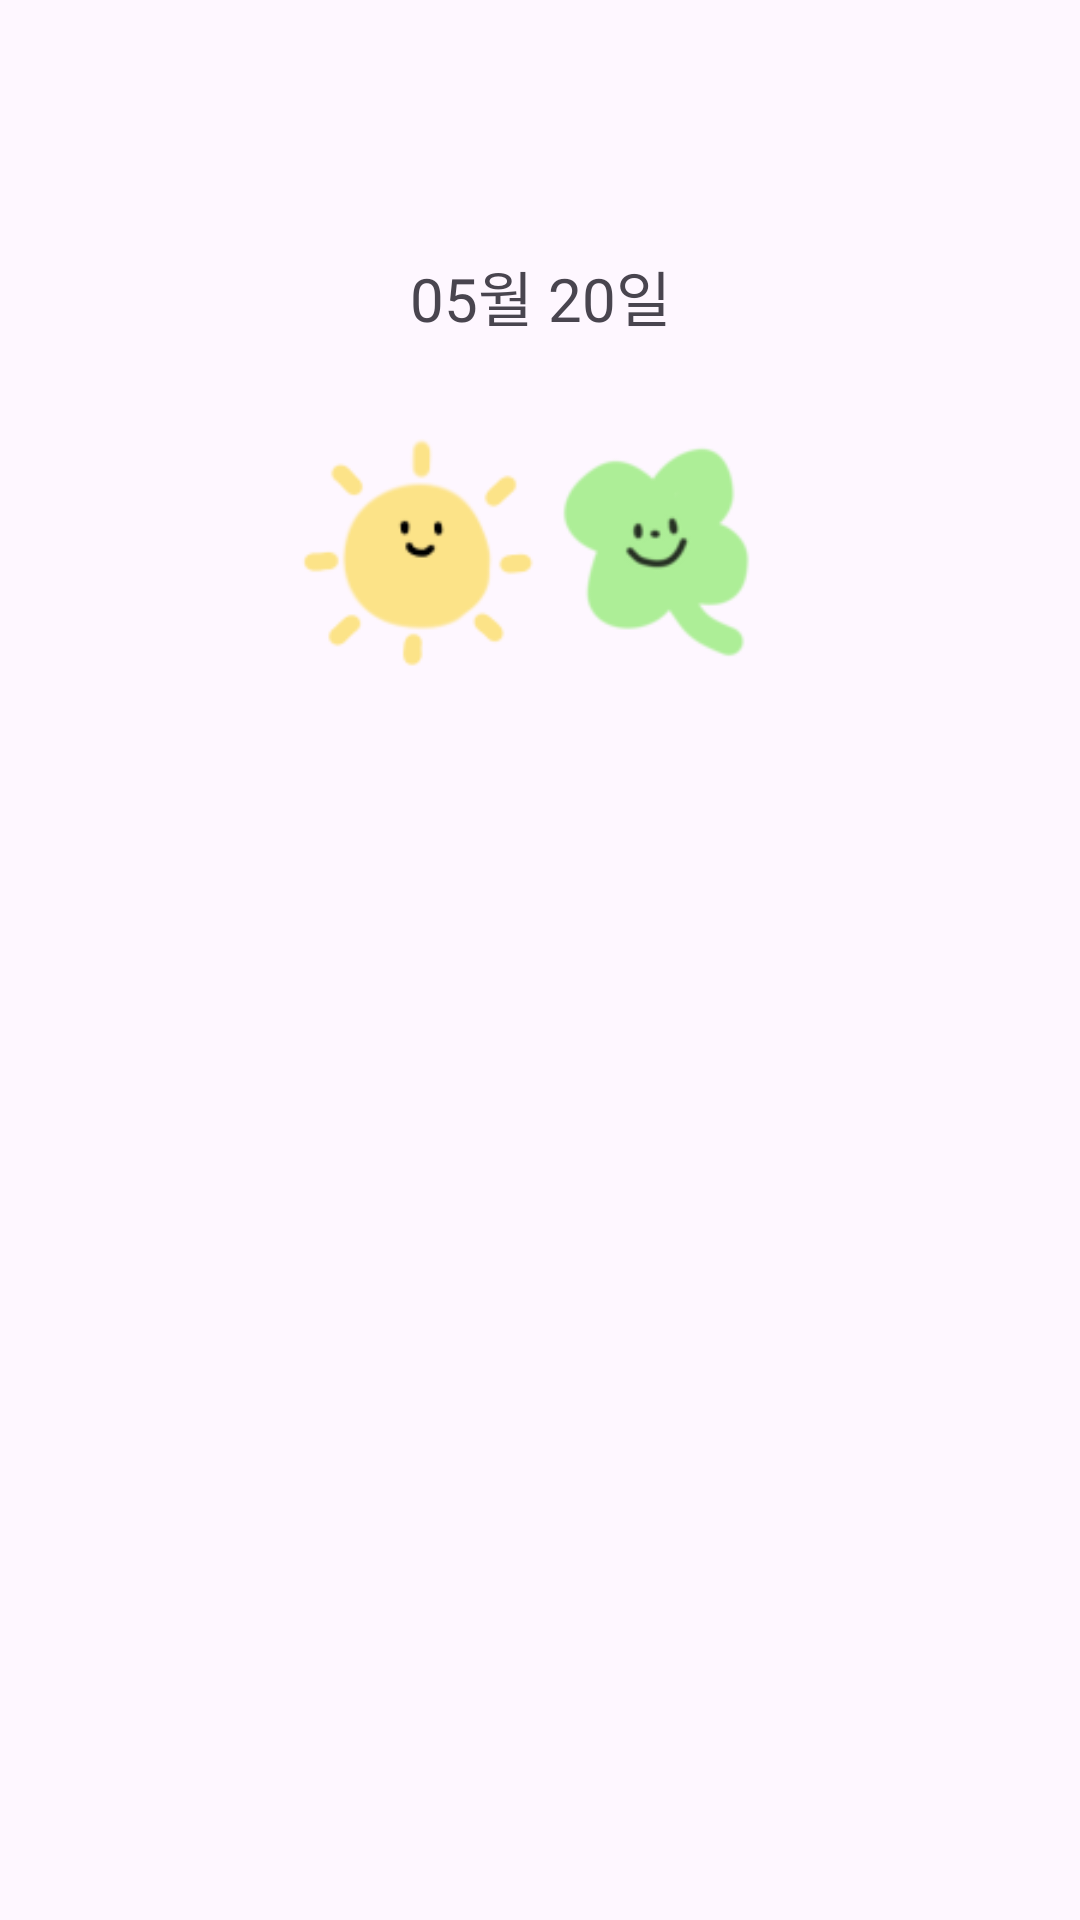

Icon bounding boxes for this 1080px x 1920px phone screenshot, format {"left": x1, "top": y1, "right": x2, "bottom": y2}:
mood lucky: {"left": 563, "top": 448, "right": 749, "bottom": 656}
weather sunny: {"left": 304, "top": 440, "right": 533, "bottom": 666}
